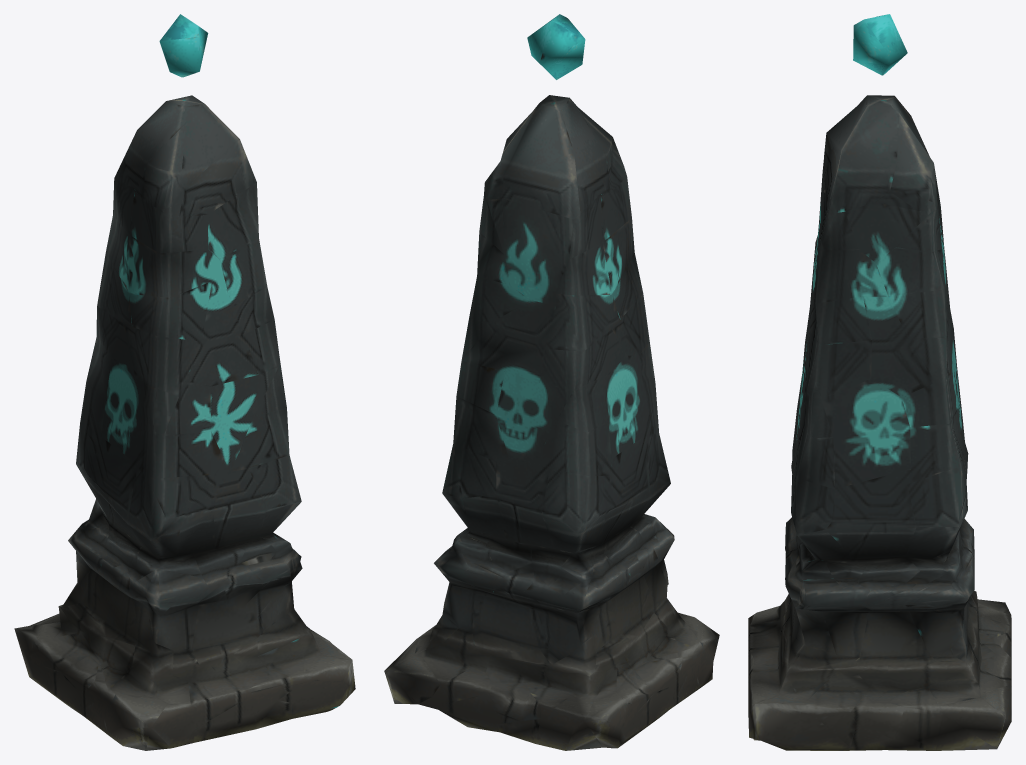
File: puzzle_obelisk.glb
3 views of the same model, side by side, from view 1: azimuth 30°, elevation 25°; view 2: azimuth 150°, elevation 25°; view 3: azimuth 270°, elevation 25° (orthographic). The views are drawn at different scales.
Size of the model in its own units: 0.698 by 2 by 0.6982.
1 material, 1 textured.
